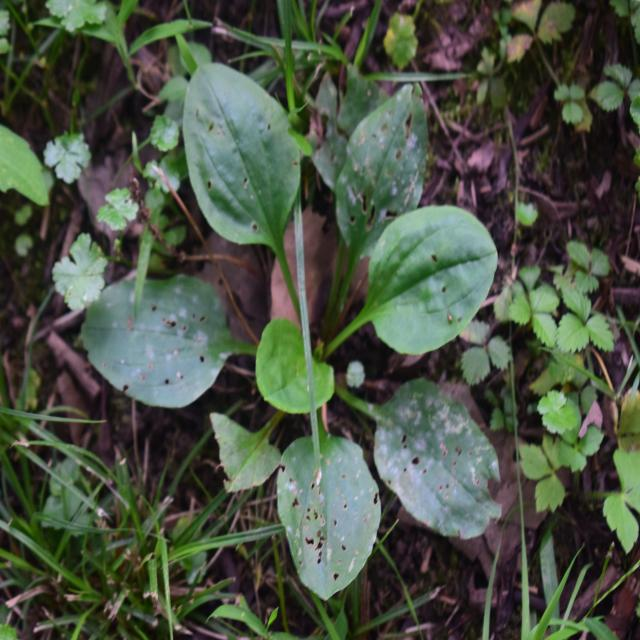plantain: (121, 78, 509, 566)
